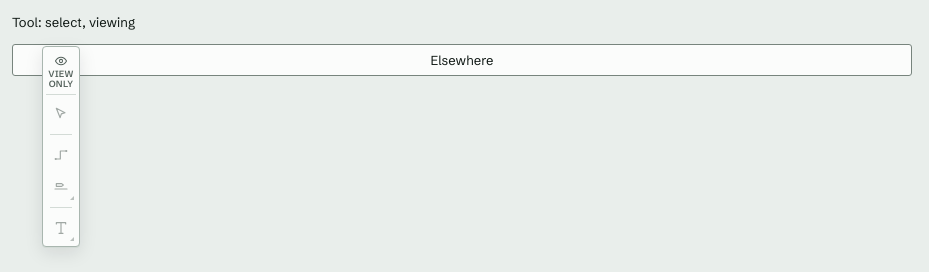
Test: ToolRail while viewing › turns editing on from the View only label
This screenshot has width=929, height=272.
Click the button "View only" at {"x": 61, "y": 72}, box [46,50,76,95]
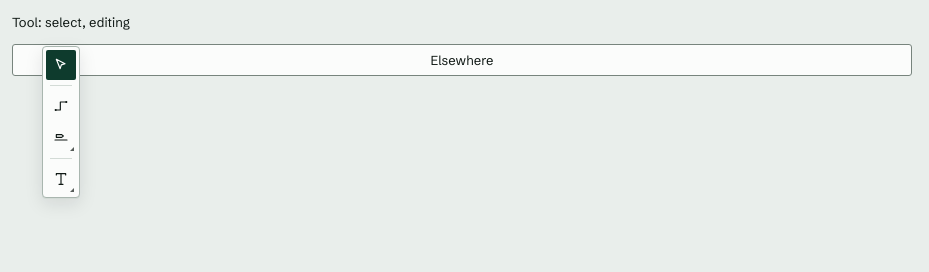
Expected: the text "Tool: select, editing" is shown, [12,14,130,30]
